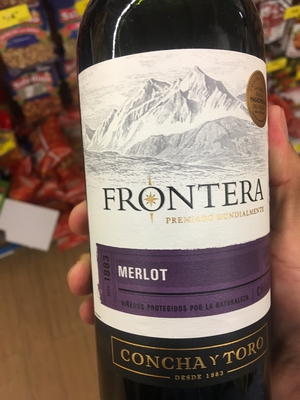frontera merlot: (64, 3, 288, 399)
